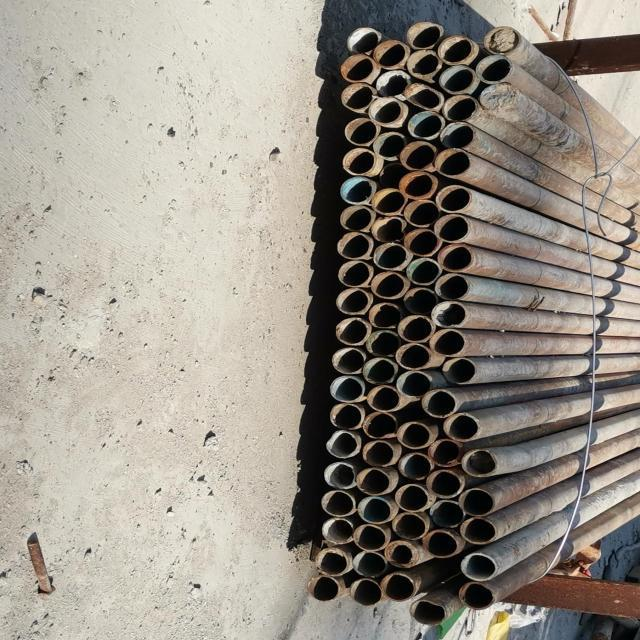pipe: (476, 82, 520, 111), (405, 108, 443, 139), (458, 552, 497, 582), (374, 68, 411, 99), (438, 120, 476, 150), (434, 146, 472, 176), (437, 242, 475, 272), (438, 66, 477, 95), (440, 94, 480, 122), (456, 582, 496, 610), (361, 410, 398, 440), (461, 448, 498, 478), (338, 81, 376, 110), (434, 184, 472, 213), (432, 213, 470, 242), (342, 116, 378, 146), (400, 140, 436, 170), (396, 420, 432, 450), (443, 412, 479, 442), (474, 54, 512, 82), (366, 98, 404, 126), (428, 328, 466, 356), (404, 198, 439, 228), (381, 572, 416, 602), (484, 26, 520, 55), (329, 346, 366, 374), (405, 82, 443, 109), (430, 300, 468, 327), (408, 598, 446, 625), (372, 130, 406, 160), (334, 316, 368, 346), (403, 228, 438, 257), (403, 286, 438, 315), (394, 483, 429, 512), (438, 34, 474, 62), (404, 257, 440, 285), (370, 271, 406, 299), (434, 272, 470, 300), (396, 342, 432, 370), (426, 438, 462, 466), (426, 470, 462, 498), (355, 468, 391, 496), (460, 516, 496, 544), (422, 530, 458, 558), (395, 370, 432, 397), (398, 171, 436, 197), (366, 329, 401, 357), (328, 402, 363, 430), (458, 488, 493, 516), (357, 496, 392, 524), (320, 516, 355, 544), (384, 540, 419, 568), (370, 188, 406, 215), (372, 242, 408, 269), (397, 315, 433, 342), (334, 287, 370, 314), (441, 357, 477, 384), (391, 513, 427, 540), (319, 489, 355, 516), (372, 38, 404, 68), (346, 26, 380, 54), (340, 54, 374, 82), (422, 390, 456, 418), (430, 500, 464, 528), (361, 357, 396, 384), (329, 375, 364, 402), (342, 147, 374, 176), (340, 176, 373, 204), (361, 439, 394, 467), (406, 21, 440, 48), (406, 49, 440, 76), (348, 578, 382, 605), (336, 260, 371, 286), (366, 386, 401, 412), (352, 524, 387, 550), (314, 548, 349, 574), (306, 574, 341, 600), (325, 430, 357, 458), (370, 216, 404, 242), (398, 452, 430, 479), (339, 204, 372, 230), (336, 232, 369, 258), (323, 462, 356, 488), (376, 162, 408, 188), (368, 302, 400, 328), (353, 552, 386, 576)
